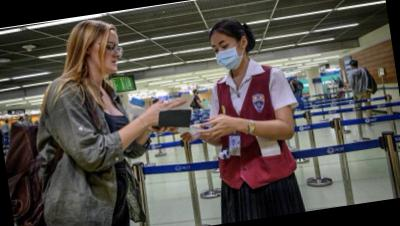with_mask: (212, 37, 247, 74)
without_mask: (89, 35, 125, 77)
